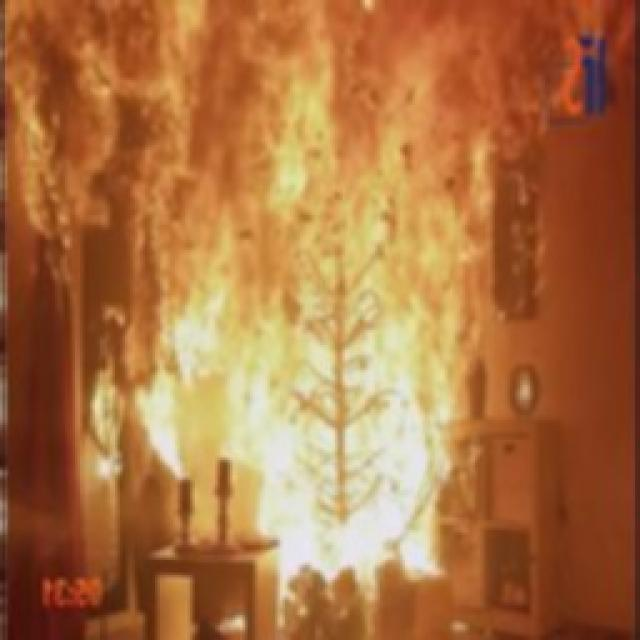fire: (0, 0, 635, 530)
